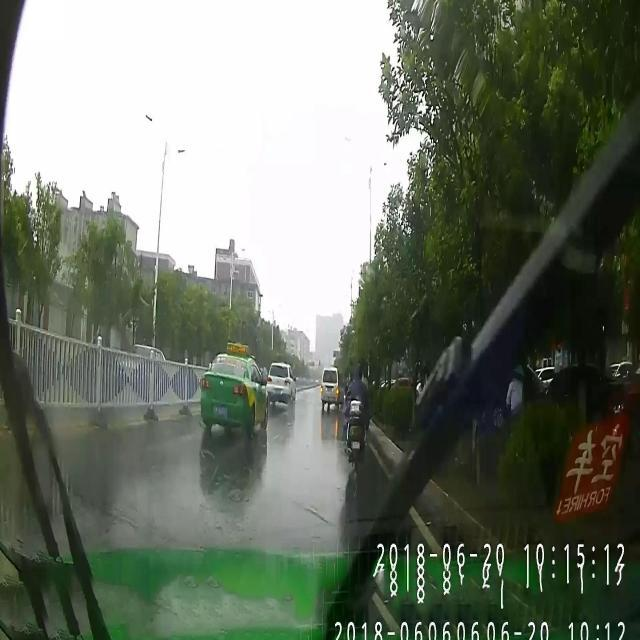car: (199, 343, 266, 433), (266, 360, 297, 404), (320, 364, 346, 409)
